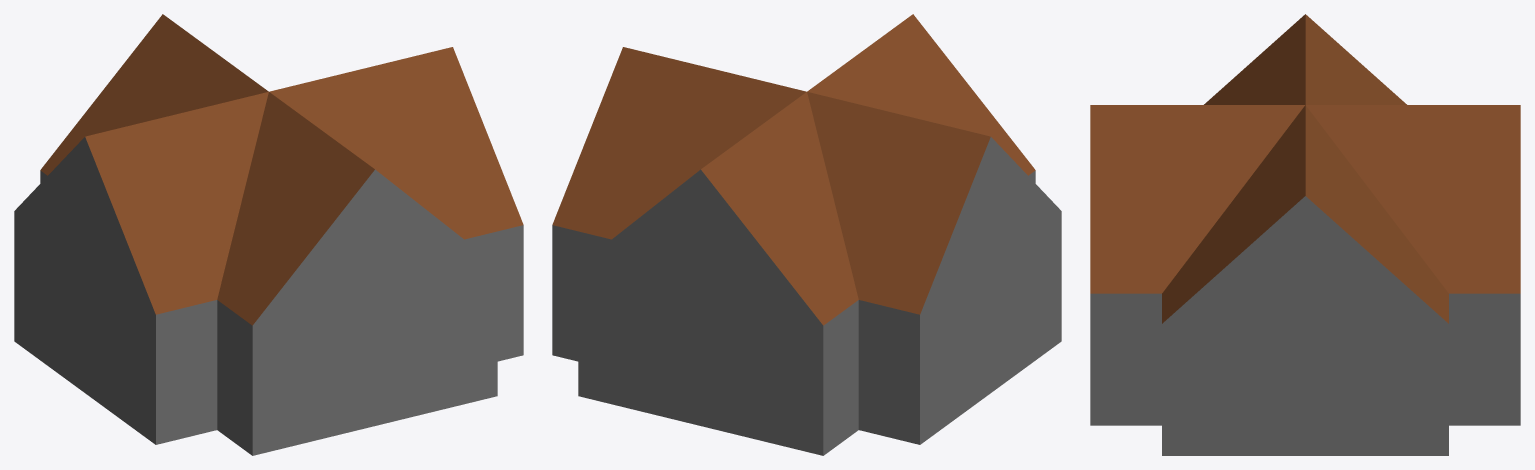
File: House3.fbx
3 renders of one model, left to right at view 1: azimuth 30°, elevation 25°; view 2: azimuth 150°, elevation 25°; view 3: azimuth 270°, elevation 25°, orthographic.
Visible parts, largest first — view 1: polySurface38; view 2: polySurface38; view 3: polySurface38.
Boxes of the visible parts, left/top/right/bottom form: polySurface38: left=14, top=14, right=523, bottom=455; polySurface38: left=552, top=14, right=1061, bottom=455; polySurface38: left=1090, top=14, right=1520, bottom=455.
Size of the model in its own units: 2.45 by 1.63 by 2.45.
